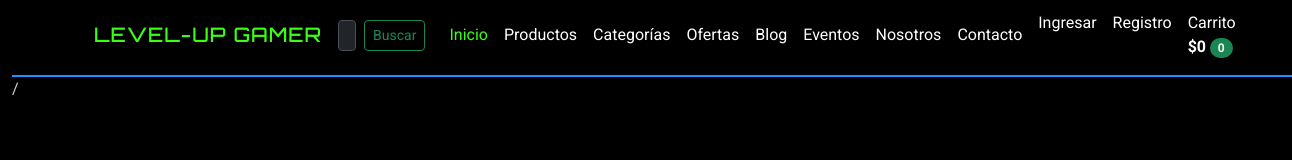
AppNavbar - buscador y monto del carrito › buscar con Enter también funciona y recorta los espacios
Type "  mouse  " into the search field named "Buscar en la tienda" at coordinates (347, 35), box [338,20,356,50]
Then press Enter
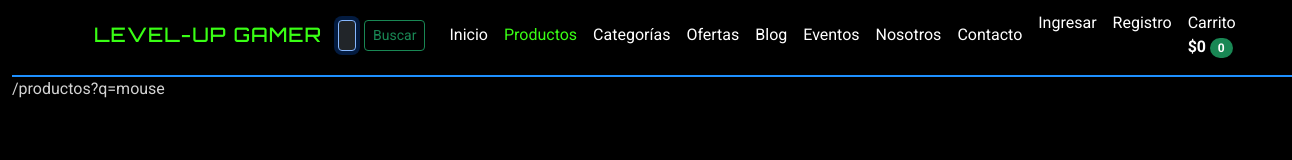
expect the text with test id "ubicacion" reads "/productos?q=mouse": met, box [12,79,165,98]
